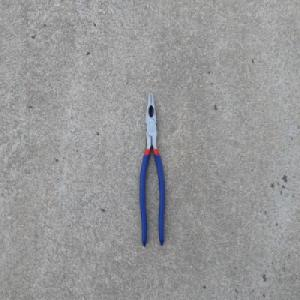Pliers: (138, 91, 166, 248)
